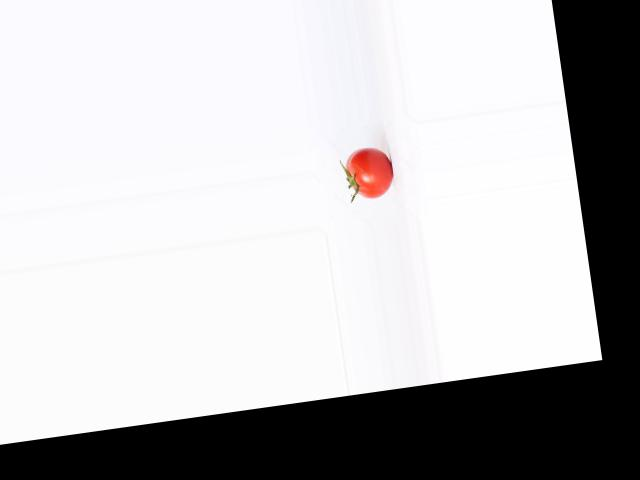tomato: (343, 143, 395, 201)
